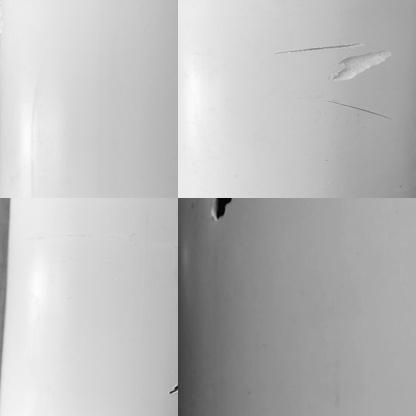kongdong: (207, 198, 236, 222), (168, 386, 179, 396)
sunshang: (335, 52, 391, 89), (329, 98, 391, 124), (271, 43, 363, 53)
